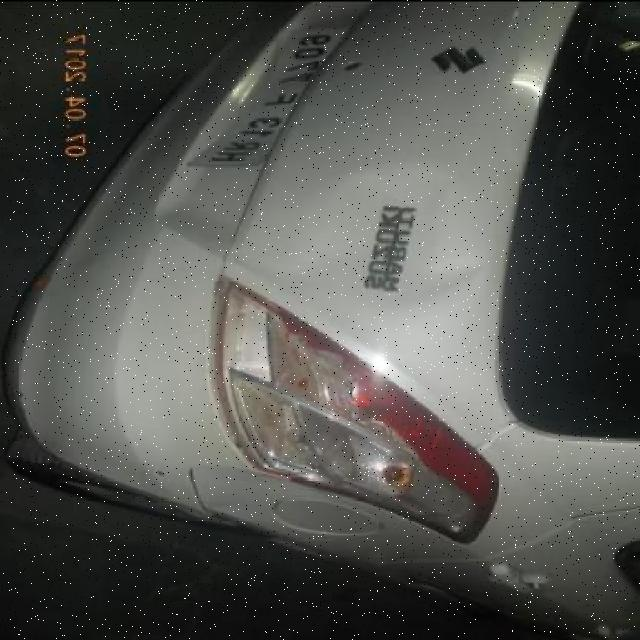damage: (289, 164, 488, 309)
